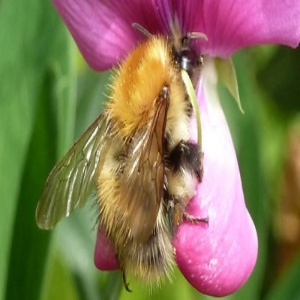bee: (56, 27, 201, 288)
